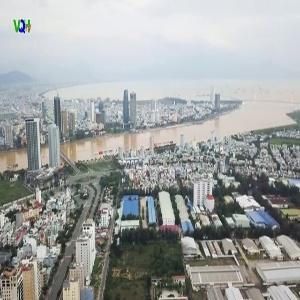drone: (85, 218, 155, 288)
